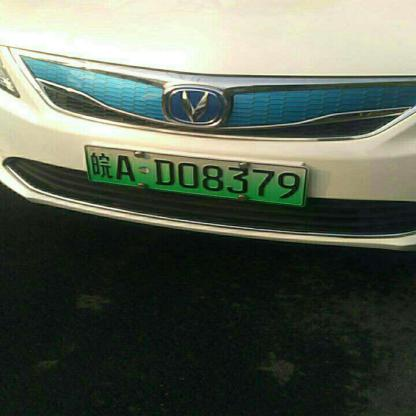lp: (83, 146, 307, 208)
